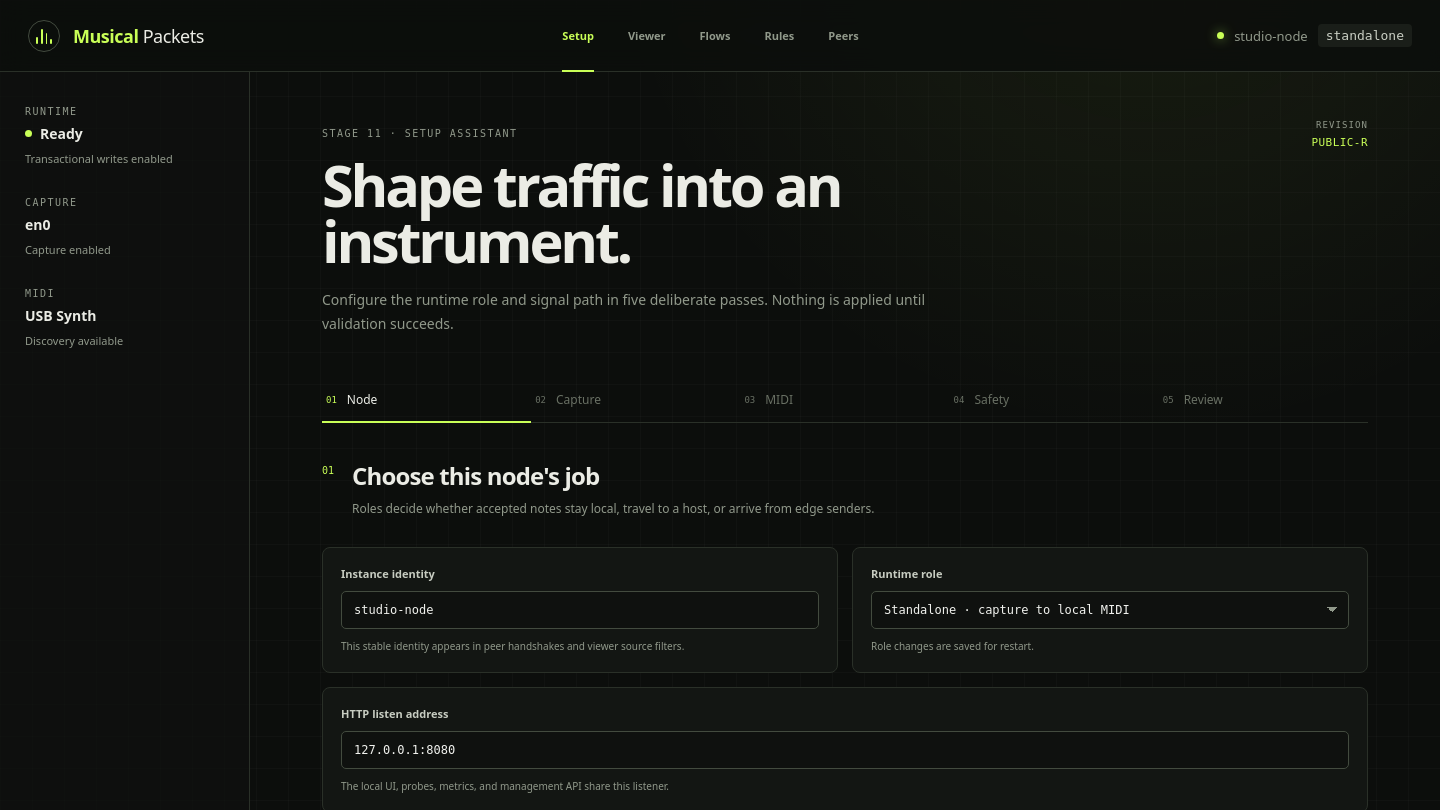
it: setup assistant › navigates to the flow explorer without reloading the application shell
This screenshot has width=1440, height=810.
Click the link "Flows".
click(715, 36)  # box [700,28,730,43]
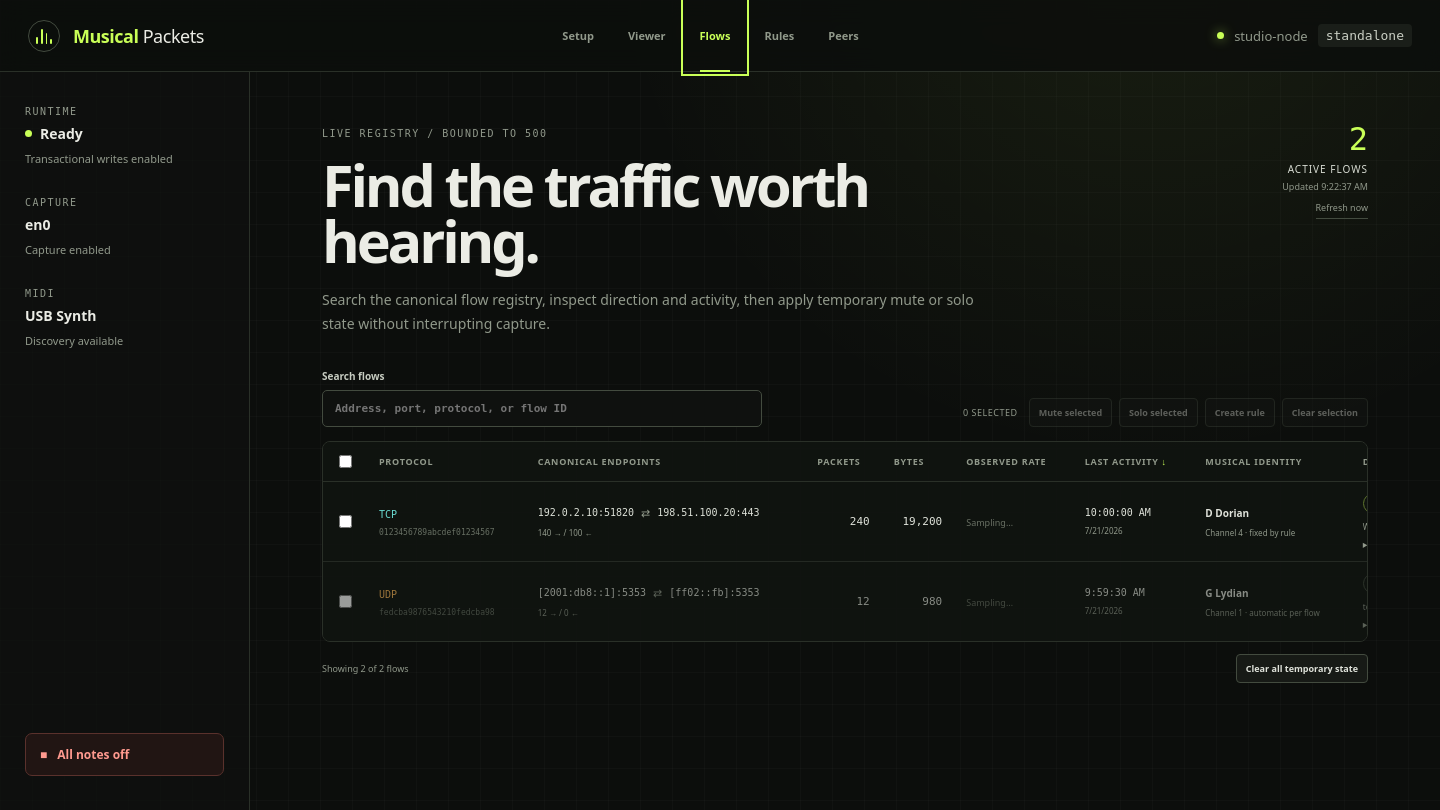
Expected: the heading "Find the traffic worth hearing." is shown, [322,145,868,280]
